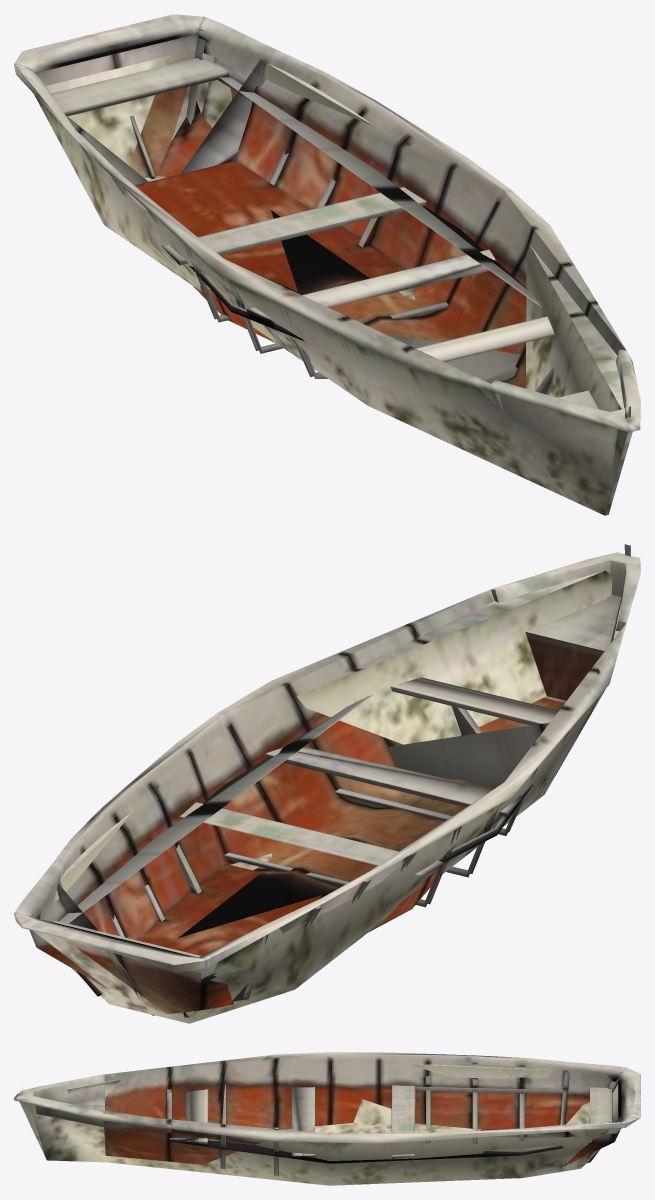
Rendered from rowboat.lod1.glb.
3 views of the same model, one above another, from view 1: azimuth 30°, elevation 25°; view 2: azimuth 150°, elevation 25°; view 3: azimuth 270°, elevation 25° (orthographic). The views are drawn at different scales.
Parts seen in each view (by area): view 1: Object_2; view 2: Object_2; view 3: Object_2.
Boxes of the visible parts, x1,y1,x2,y2 form: Object_2: (14,14,640,515); Object_2: (14,544,640,1023); Object_2: (14,1052,640,1185).
Size of the model in its own units: 1.32 by 0.5704 by 4.16.
1 material, 1 textured.
